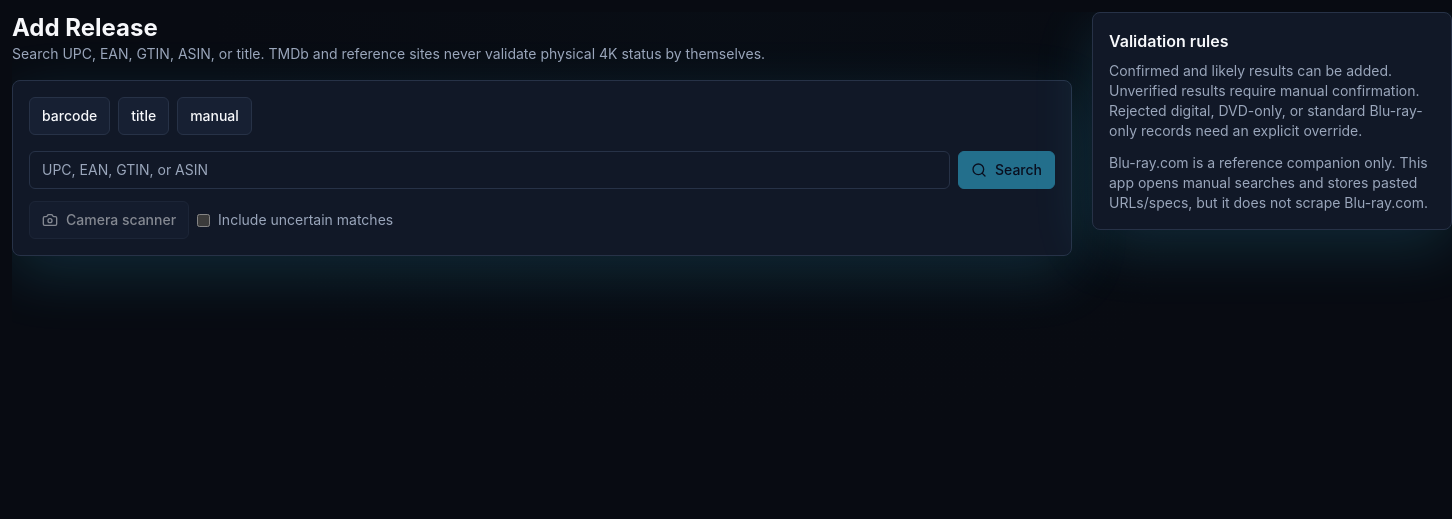
Test case: title search UI › shows manual title search results with Blu-ray.com and 4KFilmDb links inside Add Release
Click the button "title" at (144, 116), box x1=118 y1=97 x2=169 y2=135
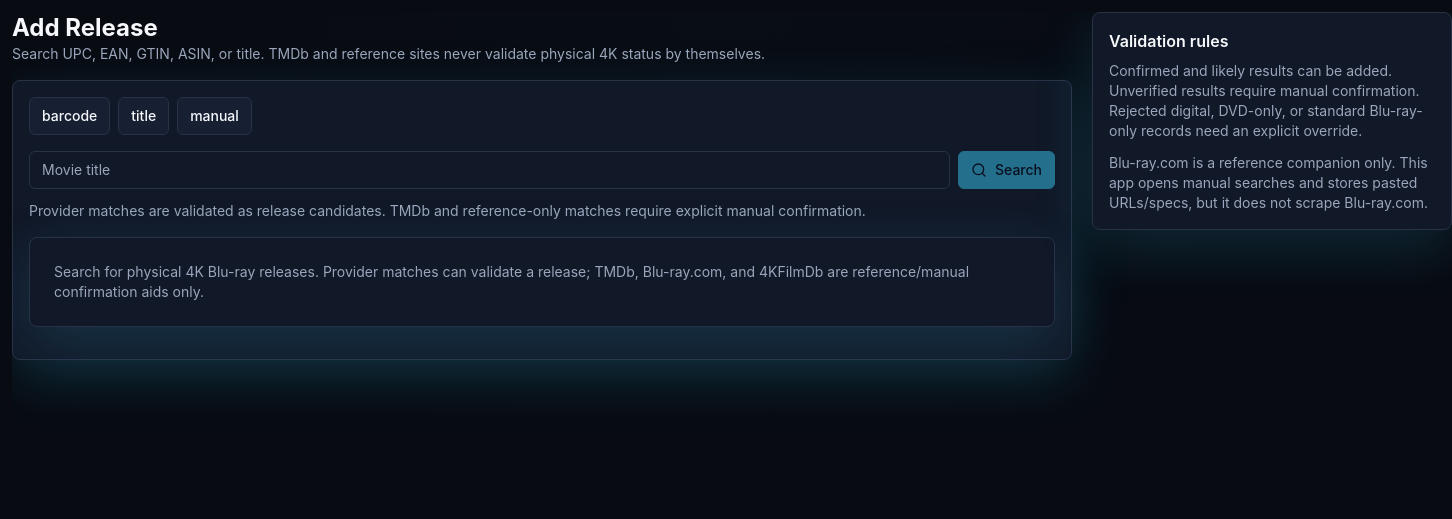
Type "The Thing" into the field with placeholder "Movie title" at (490, 170), box x1=29 y1=151 x2=950 y2=189
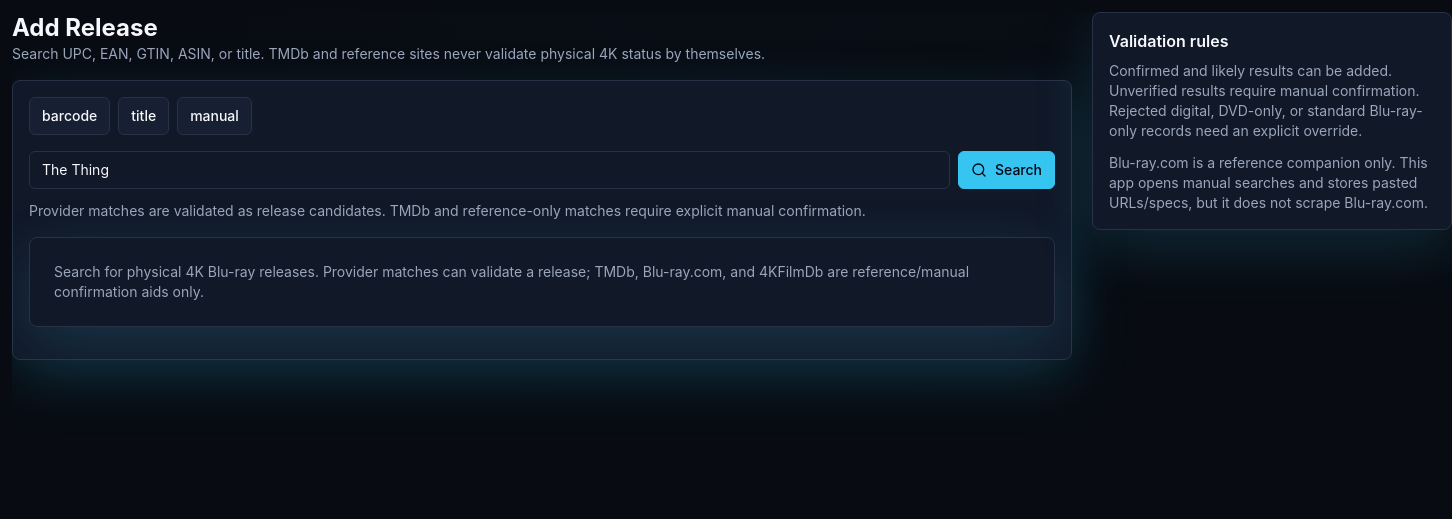
Click the button "Search" at (1006, 170), box x1=958 y1=151 x2=1055 y2=189
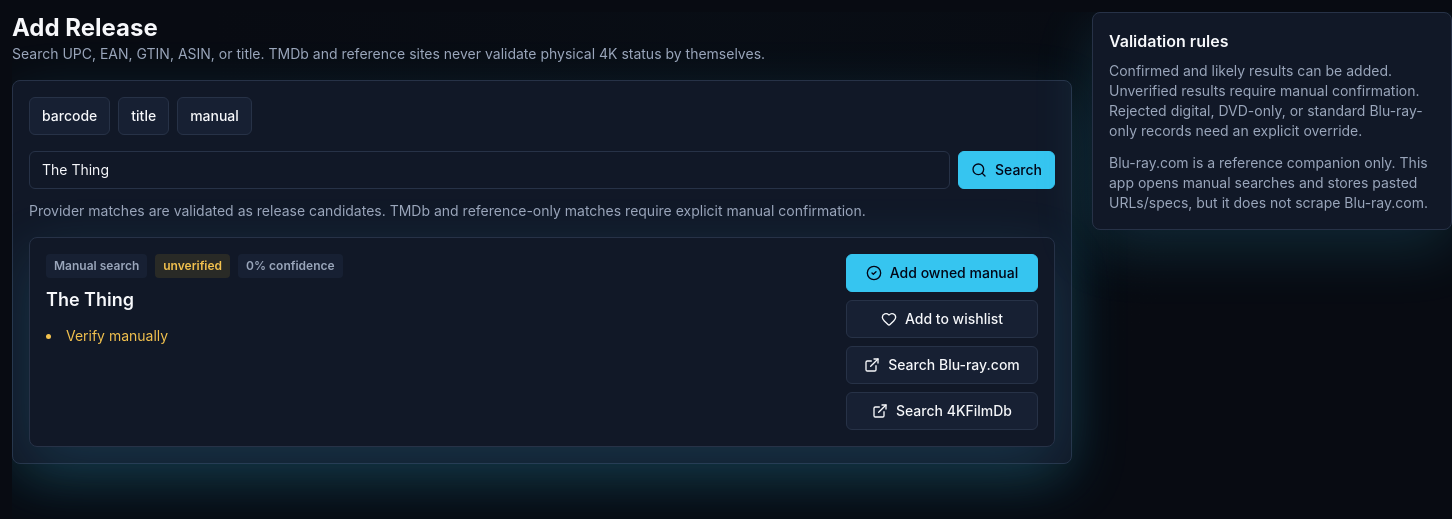
expect the heading "The Thing" is shown: met, box x1=46 y1=289 x2=134 y2=310
expect the button "Add owned manual" is shown: met, box x1=846 y1=254 x2=1038 y2=292
expect the button "Add to wishlist" is shown: met, box x1=846 y1=300 x2=1038 y2=338
